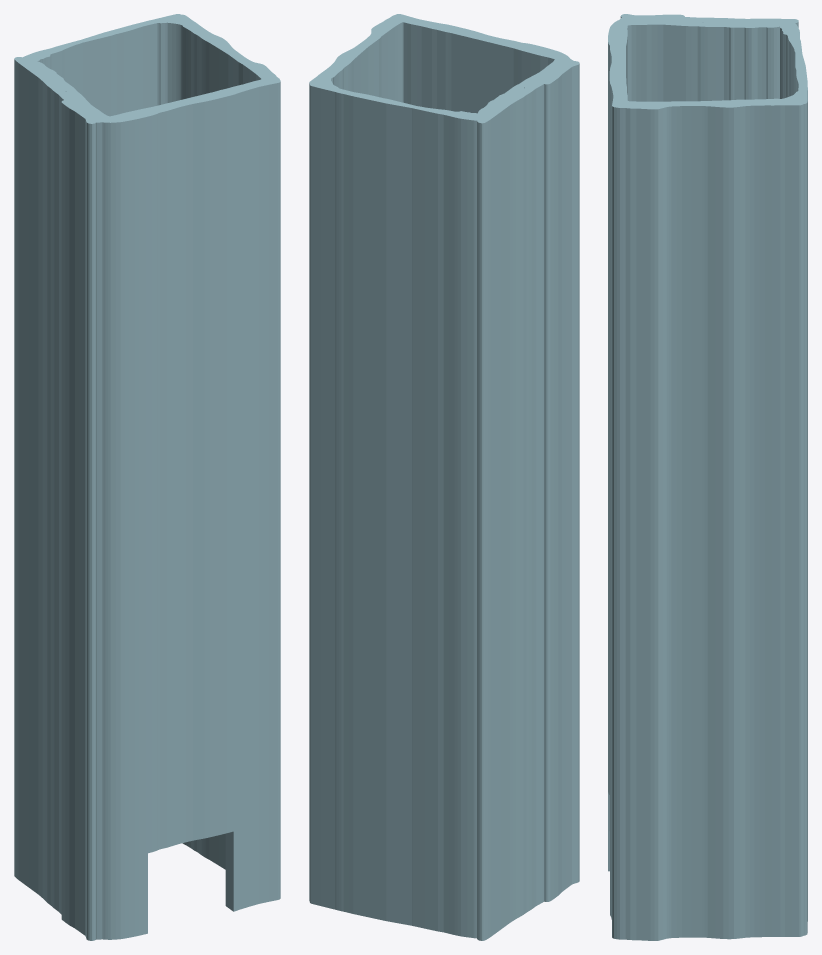
Rendered from Terrific Jaiks.glb.
3 views of the same model, side by side, from view 1: azimuth 30°, elevation 25°; view 2: azimuth 150°, elevation 25°; view 3: azimuth 270°, elevation 25° (orthographic).
Parts seen in each view (by area): view 1: Mesh_Mesh_head_geo.001_lambert2SG.001; view 2: Mesh_Mesh_head_geo.001_lambert2SG.001; view 3: Mesh_Mesh_head_geo.001_lambert2SG.001.
Boxes of the visible parts, box(x1,y1,x2,y2) form: Mesh_Mesh_head_geo.001_lambert2SG.001: box(14, 14, 280, 940); Mesh_Mesh_head_geo.001_lambert2SG.001: box(309, 14, 579, 940); Mesh_Mesh_head_geo.001_lambert2SG.001: box(608, 14, 807, 940).
Bounding box in the file's own units: 0.105 × 0.427 × 0.093.
